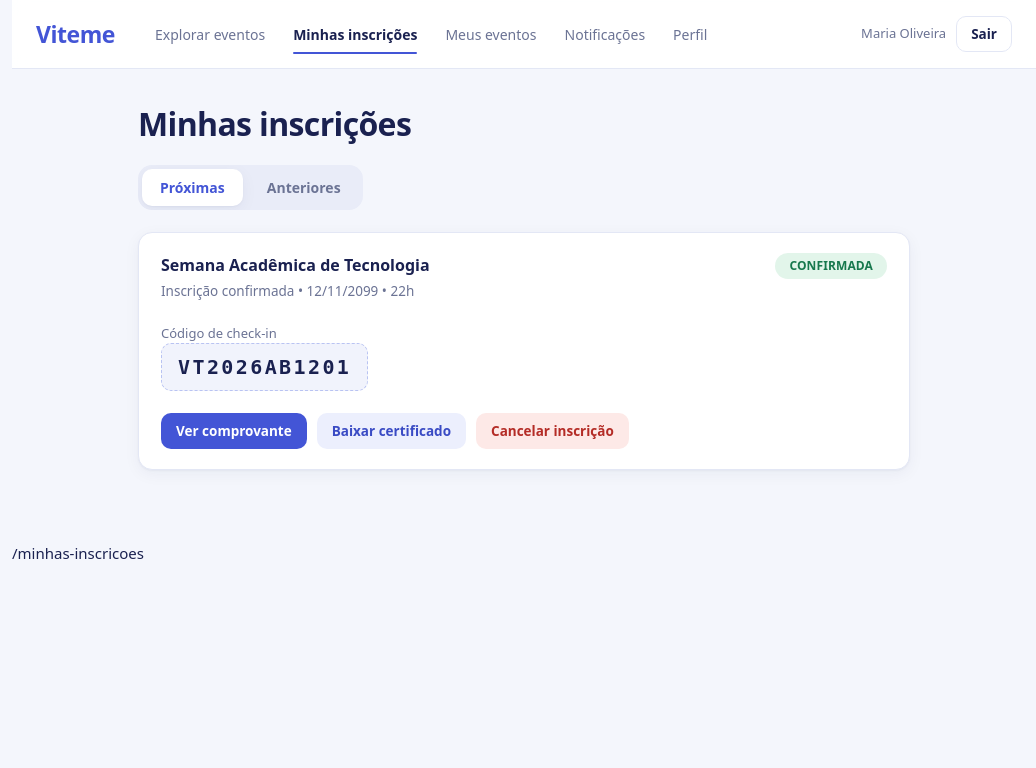
Test case: certificado nas minhas inscrições › CTW11 — erro ao gerar o certificado aparece no item
This screenshot has width=1036, height=768.
Click the button "Baixar certificado": coordinates (391, 431) left=317, top=413, right=466, bottom=449
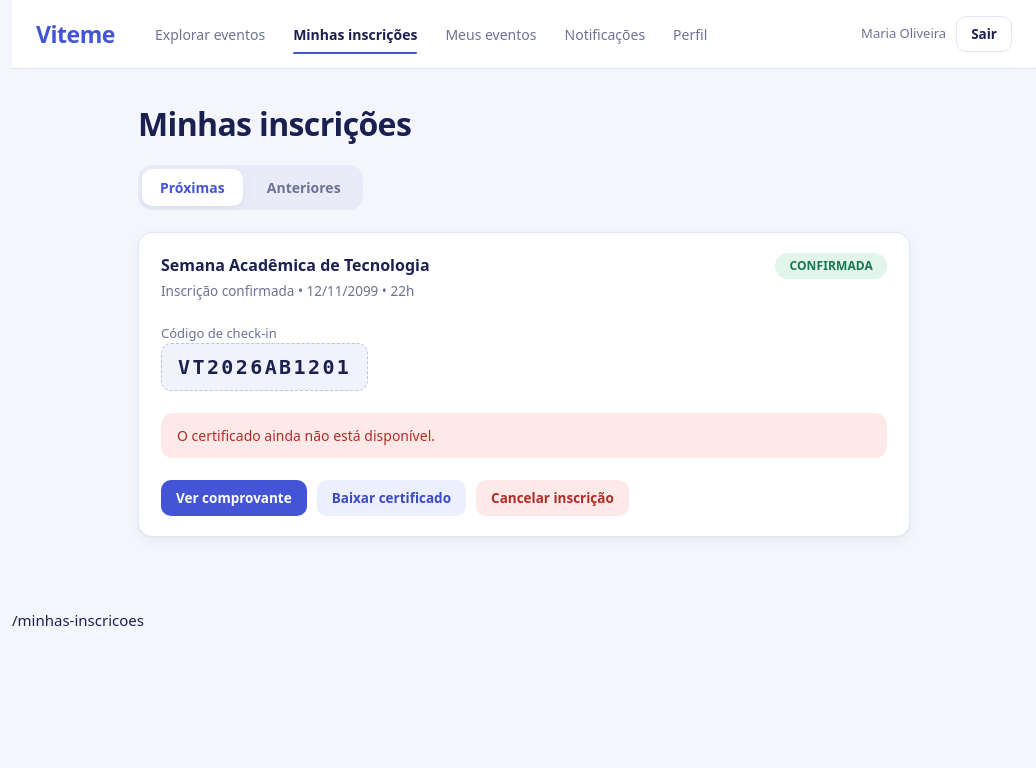
Check: the button "Baixar certificado" is enabled, box left=317, top=480, right=466, bottom=516
Check: the message reads "O certificado ainda não está disponível.", box left=177, top=426, right=435, bottom=445
